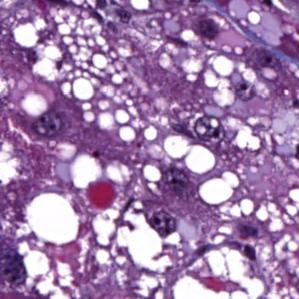ballooning: (169, 242, 270, 298)
